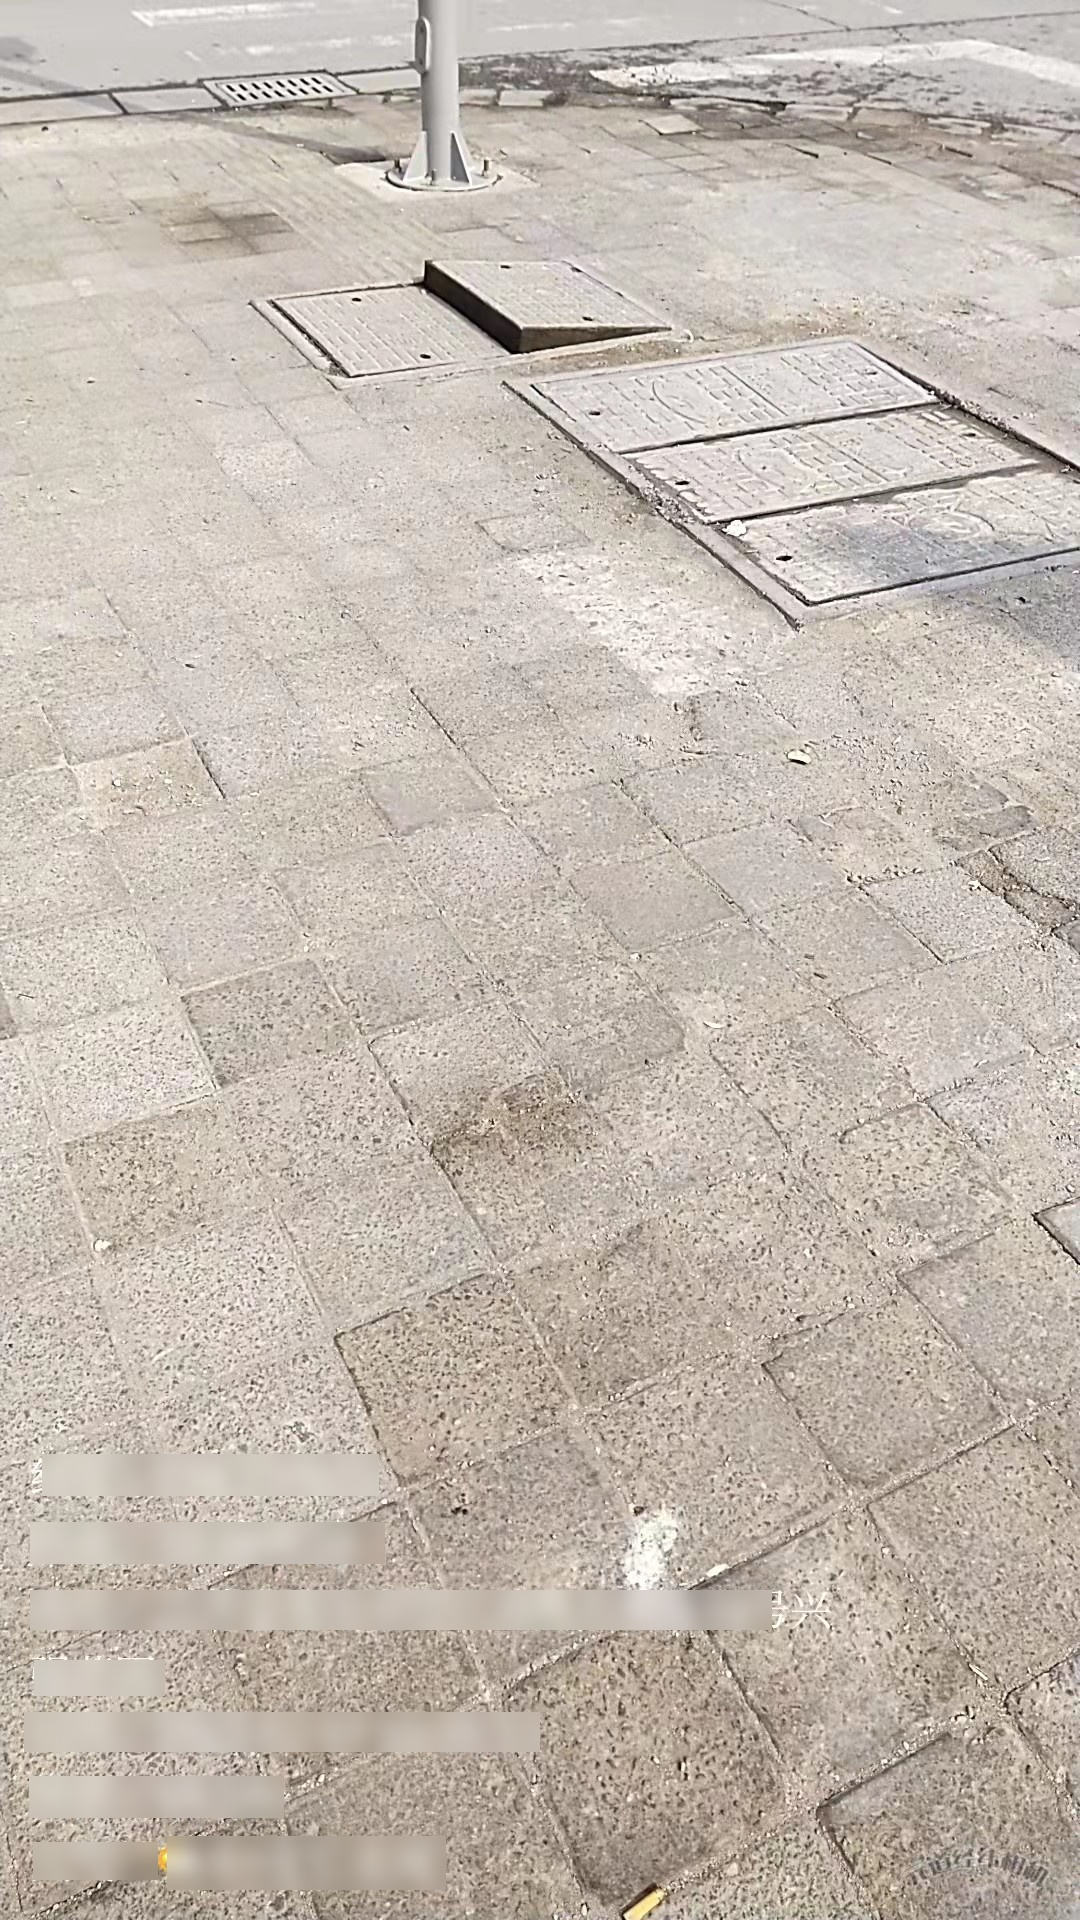good: (497, 336, 1080, 625)
uncovered: (249, 258, 688, 396)
